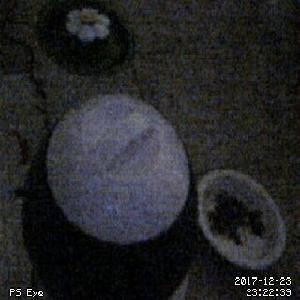fountain: (33, 1, 133, 76)
